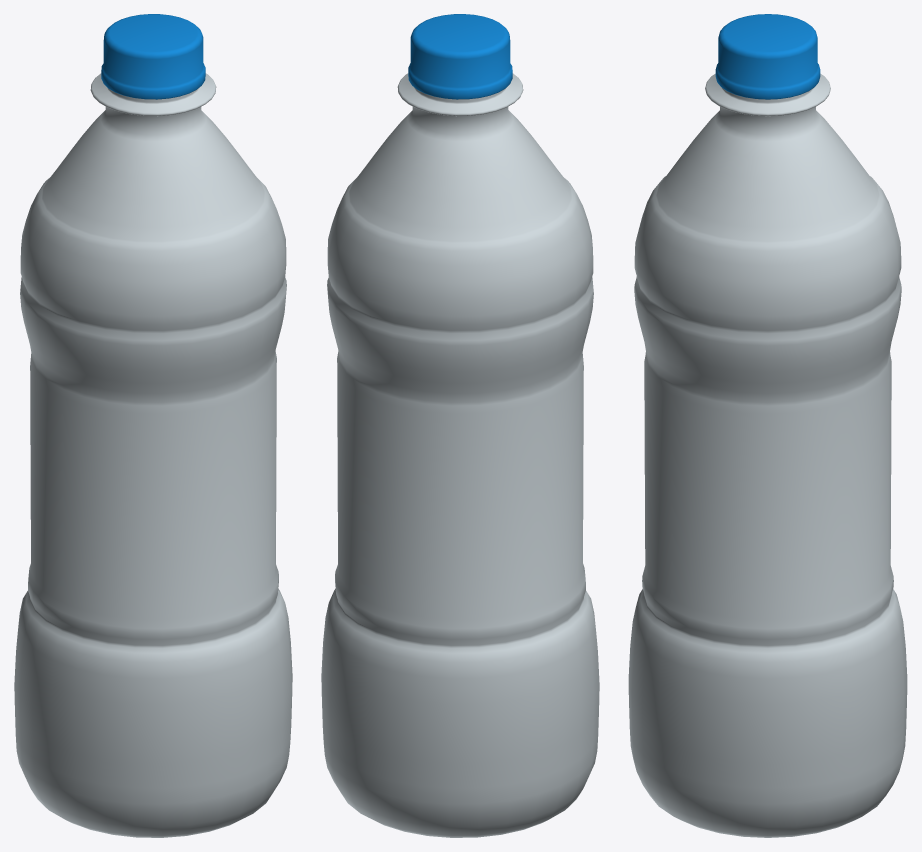
The model's file is Bottel2.fbx.
The picture shows the model from 3 angles, left to right: view 1: azimuth 30°, elevation 25°; view 2: azimuth 150°, elevation 25°; view 3: azimuth 270°, elevation 25°; orthographic projection.
Parts seen in each view (by area): view 1: SM_Water_bottle_1, SM_Water_bottle_1_cap; view 2: SM_Water_bottle_1, SM_Water_bottle_1_cap; view 3: SM_Water_bottle_1, SM_Water_bottle_1_cap.
Part boxes in pixels (box(x1,y1,x2,y2)): SM_Water_bottle_1: box(14, 73, 292, 837); SM_Water_bottle_1_cap: box(101, 14, 205, 99); SM_Water_bottle_1: box(321, 73, 599, 837); SM_Water_bottle_1_cap: box(408, 14, 512, 99); SM_Water_bottle_1: box(628, 73, 907, 837); SM_Water_bottle_1_cap: box(715, 14, 820, 99).
Size of the model in its own units: 10.38 by 31.58 by 10.38.
